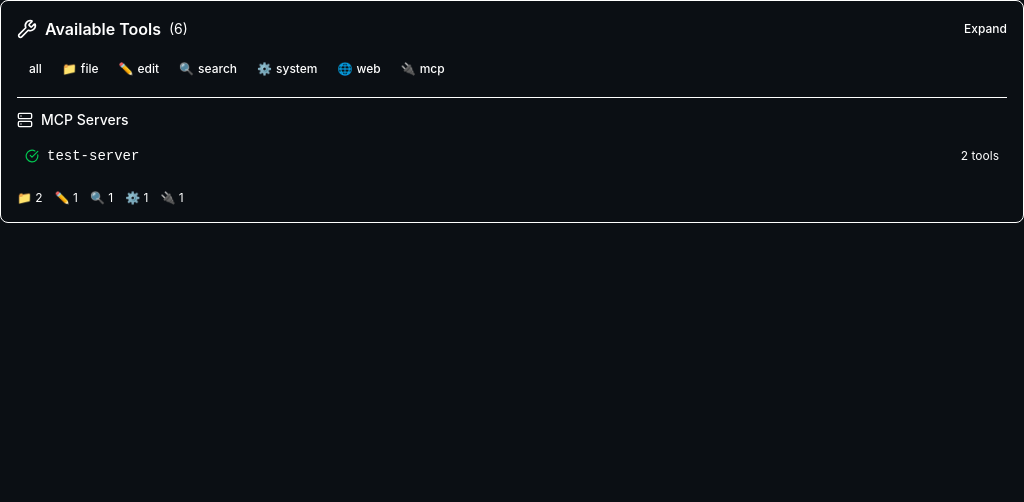
Test case: ToolsPanel › handles tools update event with categorization
// Expand to see tools
What coordinates should you click on to do the following:
click the button "Expand"
I would click on:
 (986, 29)
Its box is 964,21 -> 1007,37.
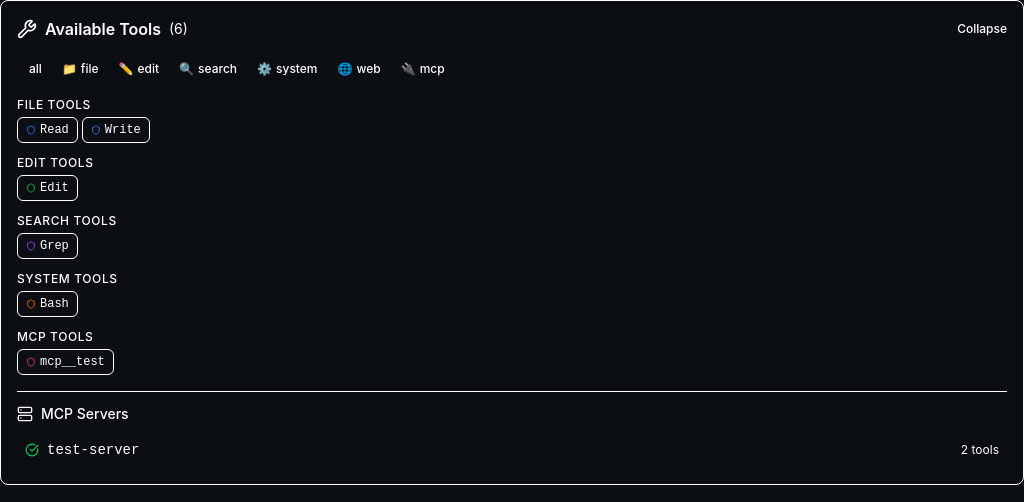
Expected: the text "file Tools" is shown, 17,97 -> 91,112
Expected: the text "edit Tools" is shown, 17,155 -> 94,170
Expected: the text "system Tools" is shown, 17,271 -> 118,286
